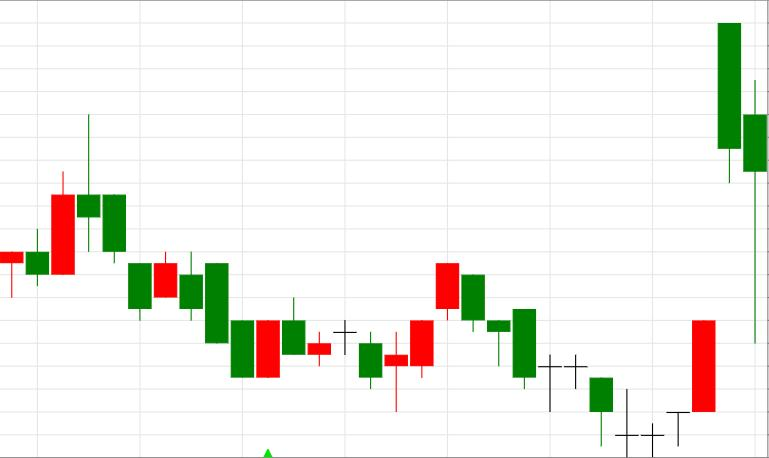hammer_rise: (462, 275, 612, 446)
